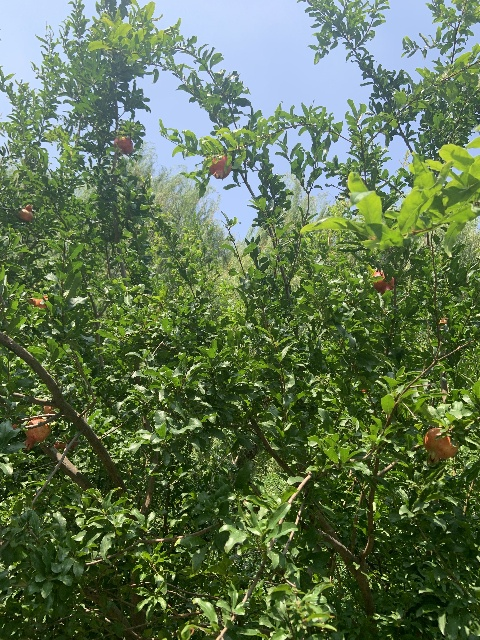ripe: (423, 427, 458, 463), (22, 418, 51, 450), (371, 271, 394, 295), (209, 155, 230, 179), (113, 136, 132, 156), (53, 434, 76, 449), (28, 295, 48, 308), (18, 204, 33, 220), (43, 405, 55, 414), (438, 317, 447, 329)
